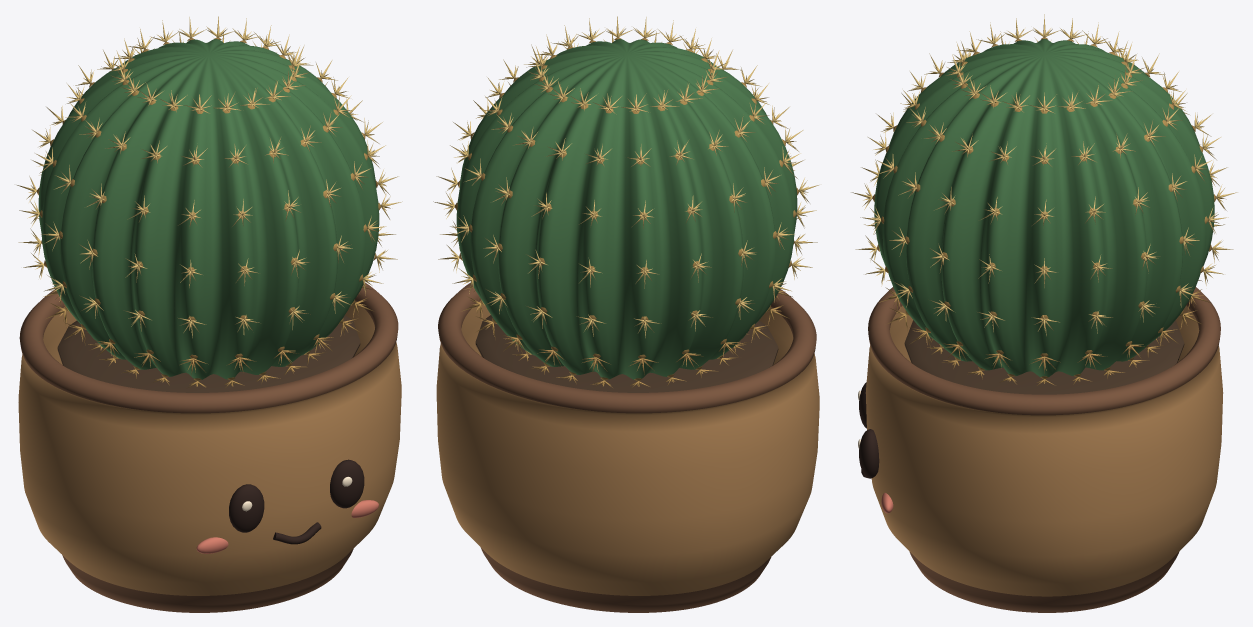
Rendered from golden-barrel-v1.glb.
The picture shows the model from 3 angles, left to right: view 1: azimuth 30°, elevation 25°; view 2: azimuth 150°, elevation 25°; view 3: azimuth 270°, elevation 25°; orthographic projection.
Visible parts, largest first — view 1: Foliage draw mesh, Wheel-thrown ceramic, Soil, Eye, Eye.001; view 2: Foliage draw mesh, Wheel-thrown ceramic, Soil; view 3: Foliage draw mesh, Wheel-thrown ceramic, Soil, Eye.001.
Boxes of the visible parts, x1,y1,x2,y2 form: Foliage draw mesh: (17, 16, 402, 388); Wheel-thrown ceramic: (18, 282, 401, 612); Soil: (57, 315, 360, 392); Eye: (229, 484, 264, 532); Eye.001: (330, 459, 364, 508); Foliage draw mesh: (433, 16, 818, 388); Wheel-thrown ceramic: (436, 282, 819, 612); Soil: (475, 315, 778, 392); Foliage draw mesh: (851, 14, 1237, 385); Wheel-thrown ceramic: (865, 287, 1223, 612); Soil: (904, 320, 1184, 394); Eye.001: (859, 429, 879, 478).
Size of the model in its own units: 1.63 by 2.33 by 1.63.
